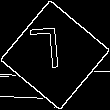L_S: (37, 28, 73, 82)
